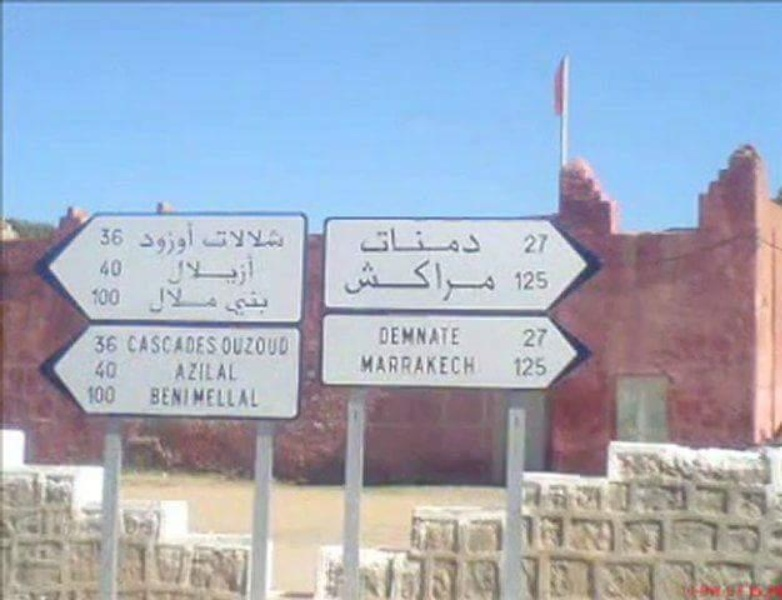text: (353, 258, 368, 303), (369, 258, 384, 303), (385, 258, 400, 303), (401, 258, 416, 303), (417, 258, 432, 303), (433, 258, 448, 303), (449, 258, 464, 303), (465, 258, 480, 303), (481, 258, 496, 303), (145, 219, 160, 258), (161, 219, 176, 258), (177, 219, 192, 258), (177, 253, 192, 287), (193, 253, 208, 287), (209, 253, 224, 287), (225, 253, 240, 287), (241, 253, 256, 287), (342, 258, 352, 303), (161, 286, 176, 316), (177, 286, 192, 316), (193, 286, 208, 316), (465, 226, 481, 254), (369, 226, 384, 254), (385, 226, 400, 254), (401, 226, 416, 254), (417, 226, 432, 254), (433, 226, 448, 254), (449, 226, 464, 254), (161, 384, 176, 411), (177, 384, 192, 411), (193, 384, 208, 411), (209, 384, 224, 411), (225, 384, 240, 411), (241, 384, 256, 411), (225, 291, 240, 318), (241, 291, 256, 318), (529, 231, 544, 257), (369, 354, 384, 377), (385, 354, 400, 377), (401, 354, 416, 377), (417, 354, 432, 377), (433, 354, 448, 377), (449, 354, 464, 377), (529, 327, 544, 349), (97, 359, 112, 381), (129, 334, 144, 356), (145, 334, 160, 356), (161, 334, 176, 356), (177, 334, 192, 356), (193, 334, 208, 356), (257, 291, 269, 318), (385, 326, 400, 347), (401, 326, 416, 347), (417, 326, 432, 347), (433, 326, 448, 347), (529, 271, 544, 292), (513, 357, 528, 378), (529, 357, 544, 378), (177, 362, 192, 383), (193, 362, 208, 383), (209, 362, 224, 383), (225, 362, 240, 383), (225, 336, 240, 357), (241, 336, 256, 357), (257, 336, 272, 357), (273, 336, 288, 357), (209, 228, 224, 249), (225, 228, 240, 249), (241, 228, 256, 249), (257, 228, 272, 249), (97, 287, 112, 307), (97, 336, 112, 356), (97, 384, 112, 404), (150, 286, 160, 316), (209, 286, 219, 316), (149, 384, 160, 411), (514, 271, 528, 292), (273, 228, 287, 249), (98, 227, 112, 247), (358, 226, 368, 254), (137, 219, 144, 258), (465, 354, 476, 377), (100, 258, 112, 278), (449, 326, 460, 347), (113, 227, 124, 247), (85, 384, 96, 404), (209, 334, 219, 356), (170, 253, 176, 287), (257, 253, 263, 287), (113, 258, 123, 278), (360, 354, 368, 377), (521, 231, 528, 257), (113, 287, 122, 307), (257, 384, 263, 411), (113, 336, 120, 356), (545, 231, 550, 257), (378, 326, 384, 347), (202, 228, 208, 249), (523, 327, 528, 349), (113, 359, 118, 381), (113, 384, 118, 404), (220, 336, 224, 357), (92, 287, 96, 307), (193, 219, 195, 258), (545, 327, 548, 349), (93, 359, 96, 381), (545, 271, 548, 292), (173, 362, 176, 383), (289, 336, 292, 357), (93, 336, 96, 356), (223, 291, 224, 318), (127, 334, 128, 356), (545, 357, 546, 378), (241, 362, 242, 383)
